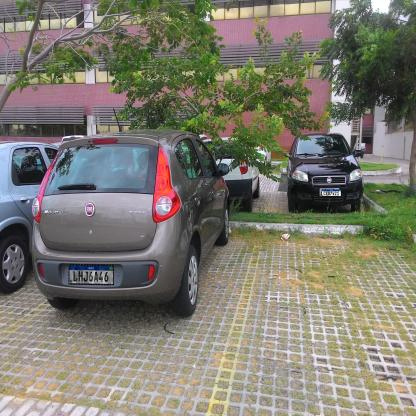PlacaM: (69, 264, 114, 285), (322, 190, 341, 197)
